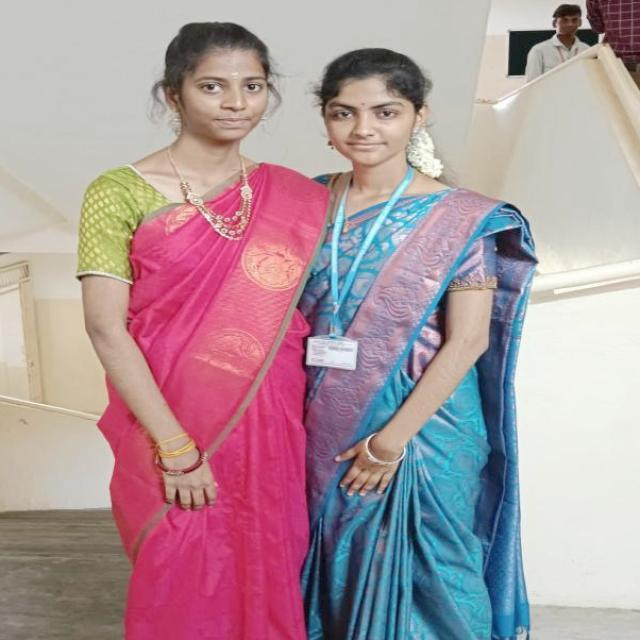ID_card: (311, 185, 356, 360)
